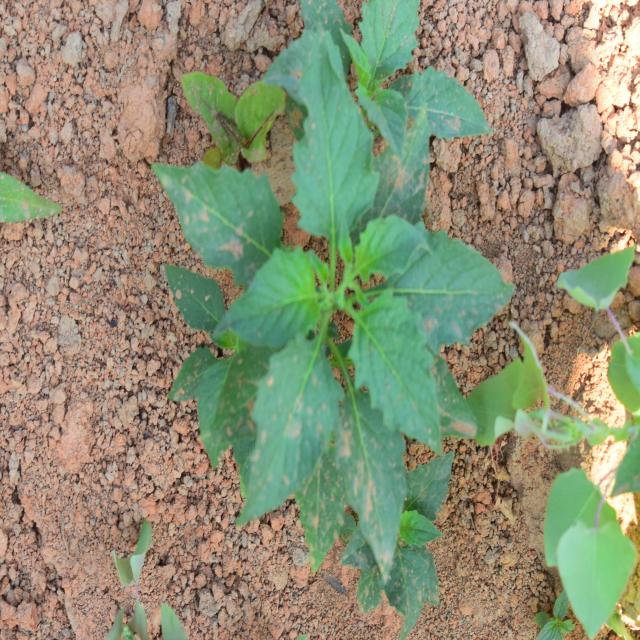Black_nightshade: (164, 92, 468, 555)
